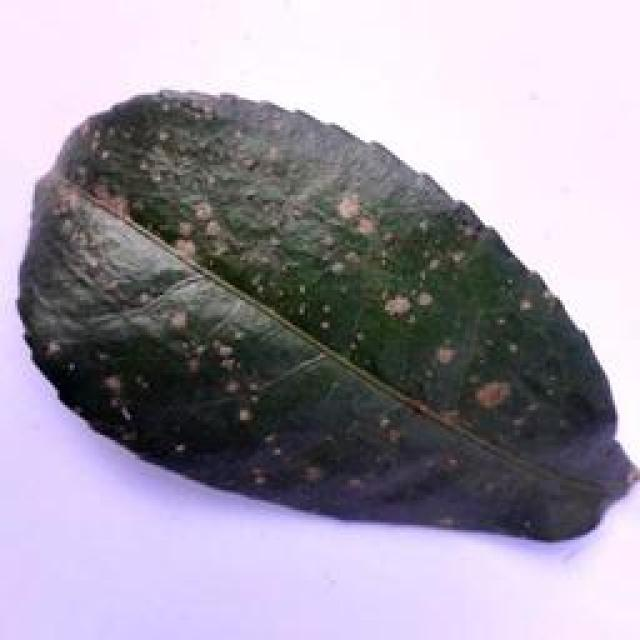Algal Leaf Spot: (10, 88, 640, 558)
